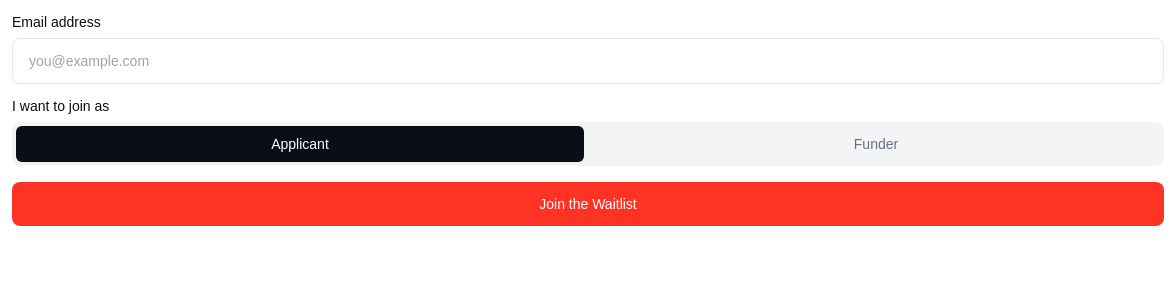
Scenario: WaitlistForm › shows error message when API returns non-ok response
In the field with placeholder "you@example.com": (588, 61) top-left (12, 38), bottom-right (1164, 84), type "test@example.com"
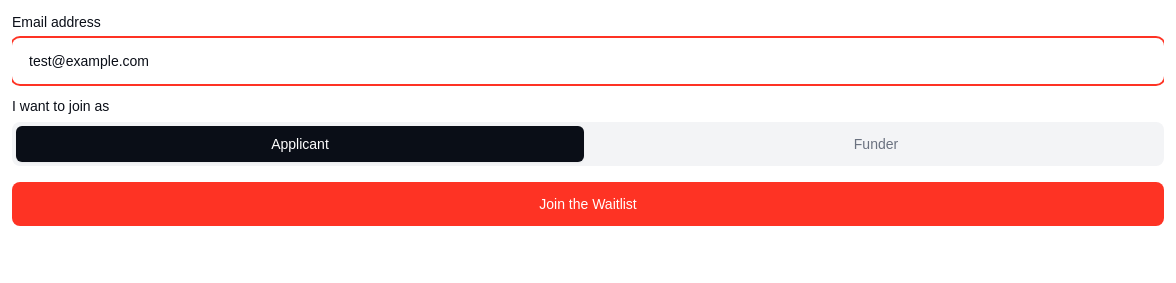
Click the button "Join the Waitlist": click(588, 204) top-left (12, 182), bottom-right (1164, 226)
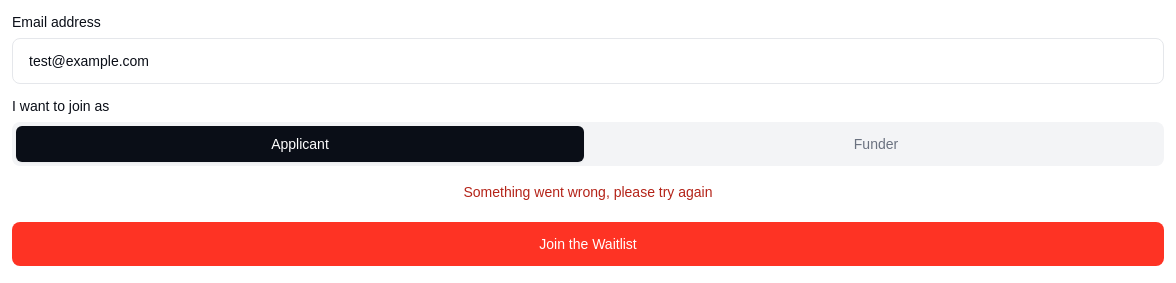
Expected: the text "Something went wrong, please try again" is shown, top-left (464, 184), bottom-right (712, 200)
